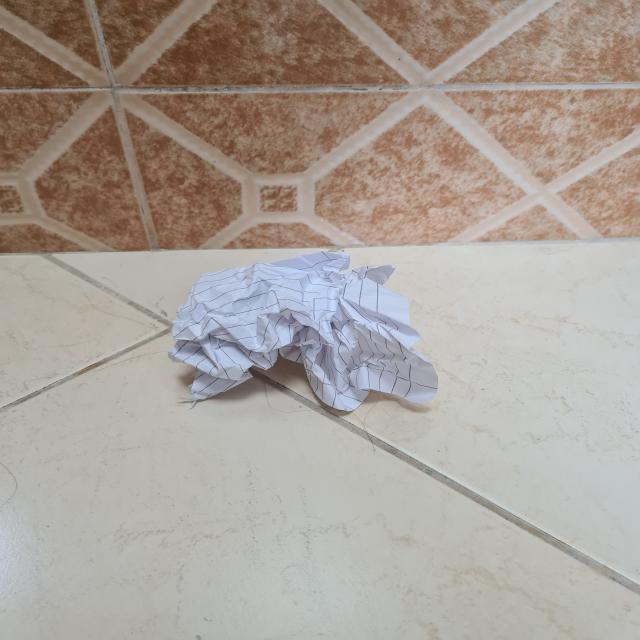Paper: (169, 252, 441, 414)
